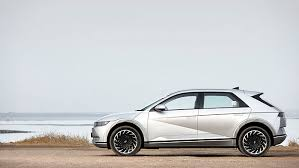Honda Ioniq: (87, 83, 290, 161)
